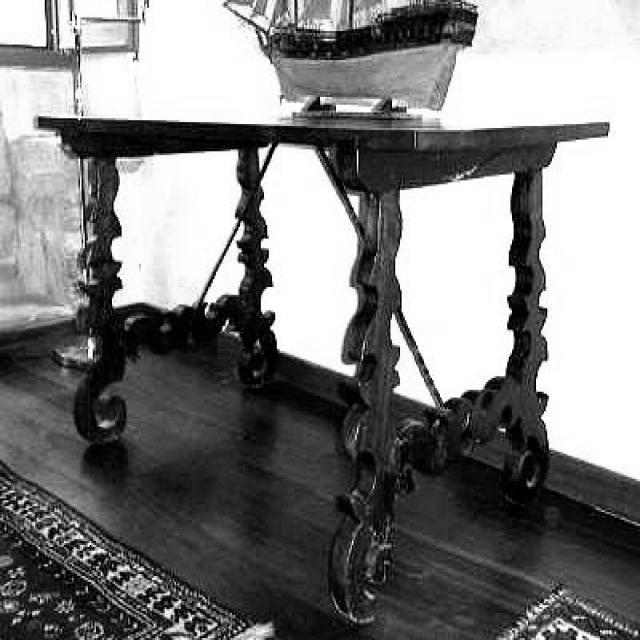table: (38, 115, 610, 620)
